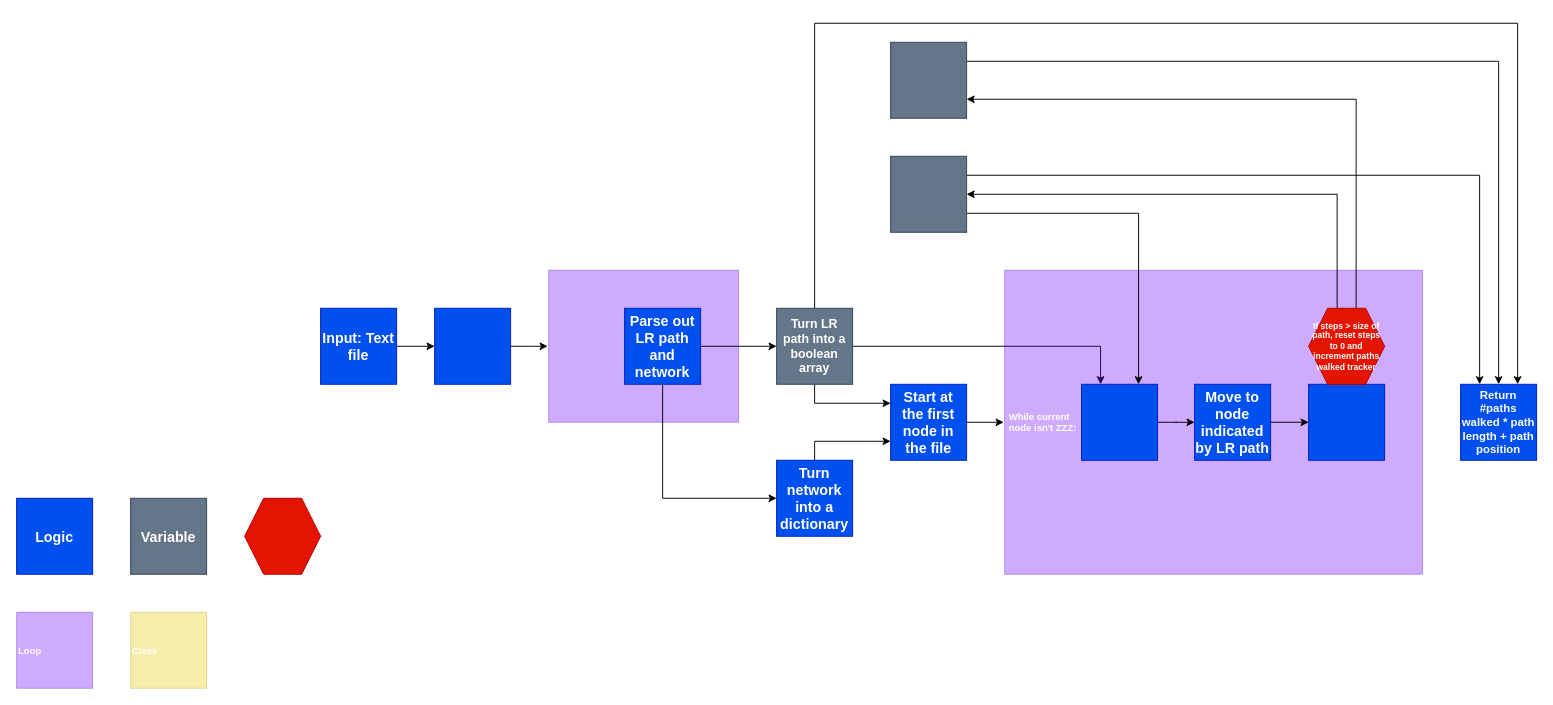
Some shapes in this 1553 by 705 pixel diagram are drawn without their labels. Each missing label, with the box of its shape:
Create an int to track number of steps through LR path = 0: (890, 155, 967, 232)
Create an int to track number of times whole LR path has been walked = 0: (890, 41, 967, 118)
Find the position in LR path: (1081, 383, 1158, 460)
For each line:: (548, 269, 739, 422)
Increment steps: (1308, 383, 1385, 460)
Note: (244, 497, 321, 574)
Read file: (434, 307, 511, 384)
